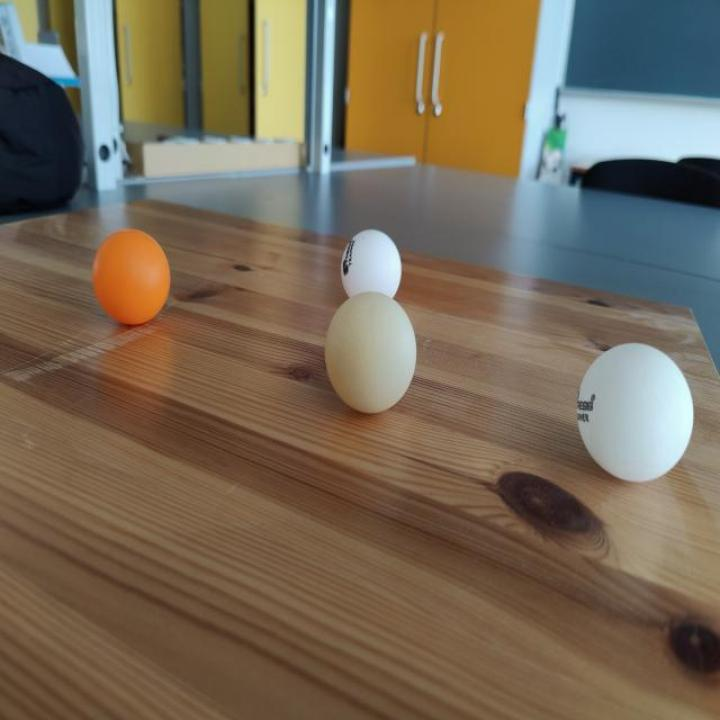orange: (92, 230, 171, 329)
white: (576, 344, 695, 486), (322, 290, 419, 418), (338, 226, 403, 298)
